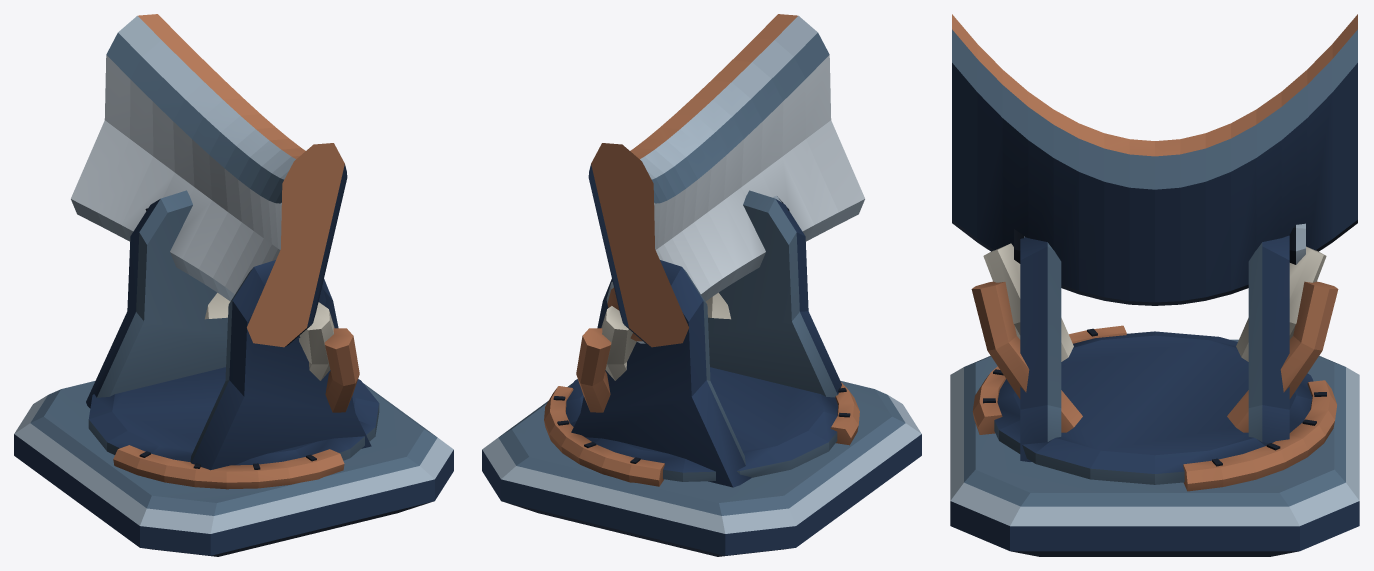
Rendered from bender.glb.
The picture shows the model from 3 angles, left to right: view 1: azimuth 30°, elevation 25°; view 2: azimuth 150°, elevation 25°; view 3: azimuth 270°, elevation 25°; orthographic projection. The views are drawn at different scales.
Visible parts, largest first — view 1: bender; view 2: bender; view 3: bender.
Boxes of the visible parts, x1=… form: bender: x1=14, y1=14, x2=453, y2=556; bender: x1=482, y1=14, x2=921, y2=556; bender: x1=950, y1=14, x2=1359, y2=556.
Bounding box in the file's own units: 0.98 × 1.2 × 0.96.
